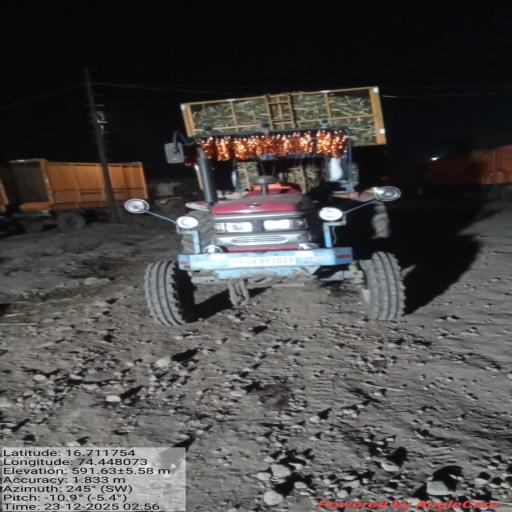number_plate: (214, 253, 317, 271)
